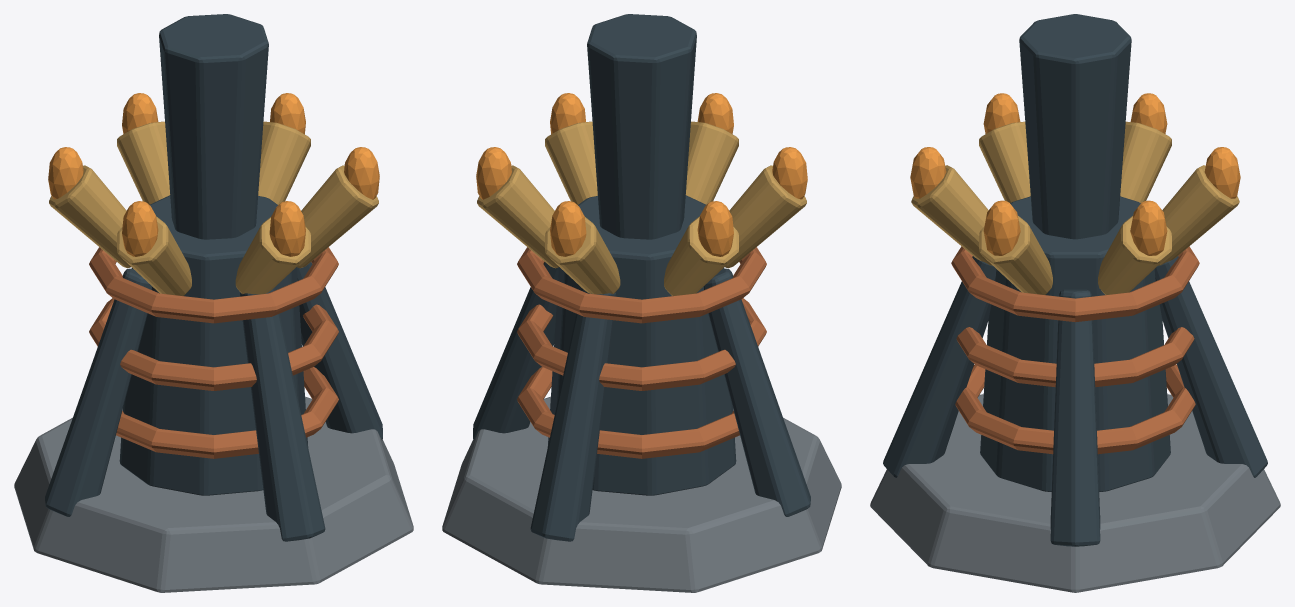
The model's file is embercoil.glb.
3 renders of one model, left to right at view 1: azimuth 30°, elevation 25°; view 2: azimuth 150°, elevation 25°; view 3: azimuth 270°, elevation 25°, orthographic.
Visible parts, largest first — view 1: Buttress.002, StoneFoundation.001, FlameVent, CopperCoil.001, Ember; view 2: Buttress.002, StoneFoundation.001, FlameVent, CopperCoil.001, Ember; view 3: Buttress.002, StoneFoundation.001, FlameVent, CopperCoil.001, Ember.
Boxes of the visible parts, <box> form: Buttress.002: <box>45,14,382,541</box>; StoneFoundation.001: <box>14,396,413,592</box>; FlameVent: <box>49,121,378,295</box>; CopperCoil.001: <box>89,247,338,458</box>; Ember: <box>48,93,379,256</box>; Buttress.002: <box>473,14,810,541</box>; StoneFoundation.001: <box>442,396,841,592</box>; FlameVent: <box>477,121,806,295</box>; CopperCoil.001: <box>517,247,766,458</box>; Ember: <box>476,93,807,256</box>; Buttress.002: <box>883,14,1267,546</box>; StoneFoundation.001: <box>870,394,1280,592</box>; FlameVent: <box>911,121,1239,294</box>; CopperCoil.001: <box>951,246,1199,454</box>; Ember: <box>910,93,1240,255</box>.
Size of the model in its own units: 2.21 by 2.8 by 2.21.
